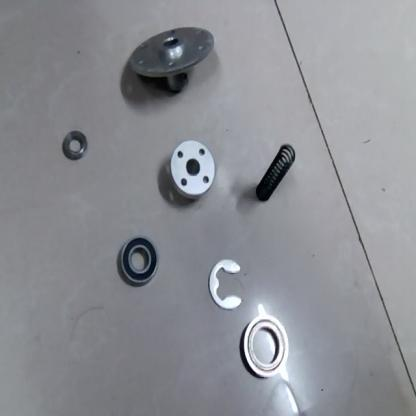FOD: (125, 23, 217, 96), (240, 316, 290, 381), (252, 139, 298, 209), (167, 138, 215, 204), (117, 235, 159, 288), (206, 257, 244, 313), (61, 126, 89, 163)
